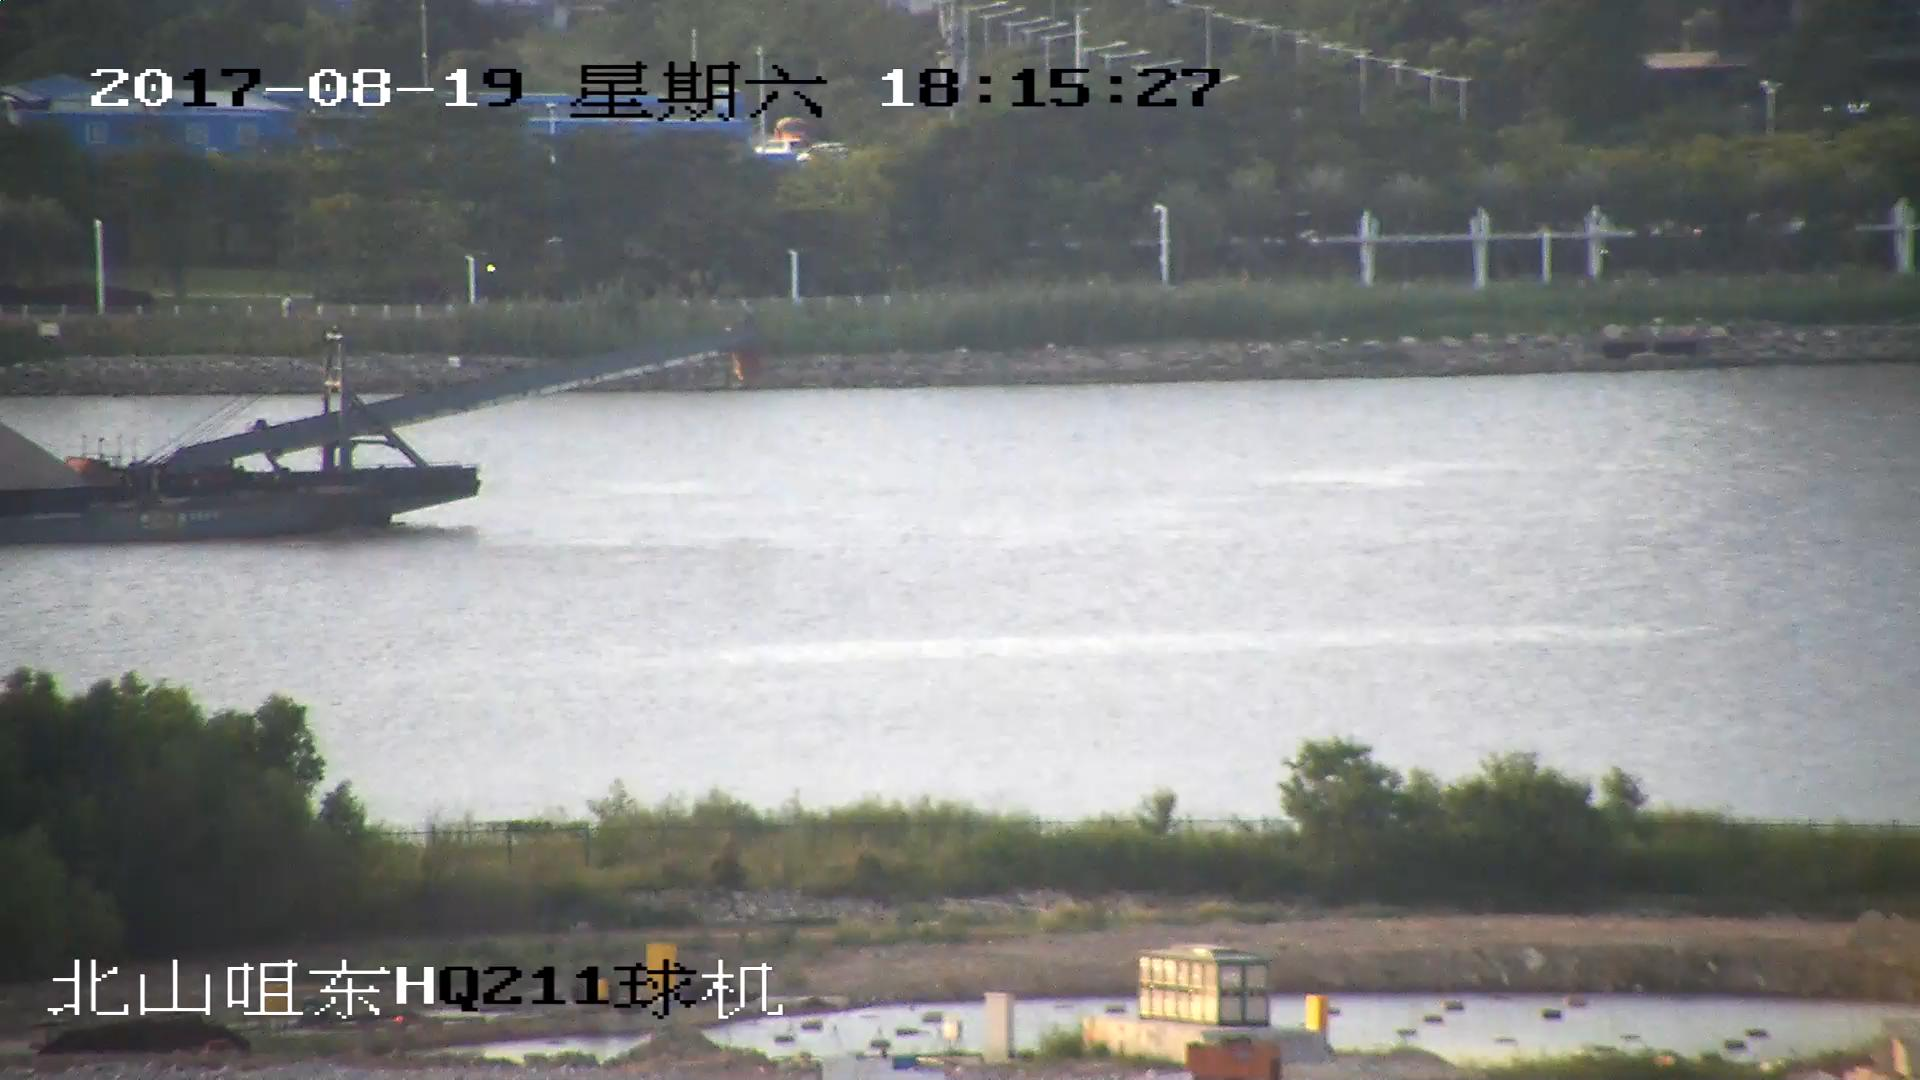ore carrier: (1, 320, 749, 542)
